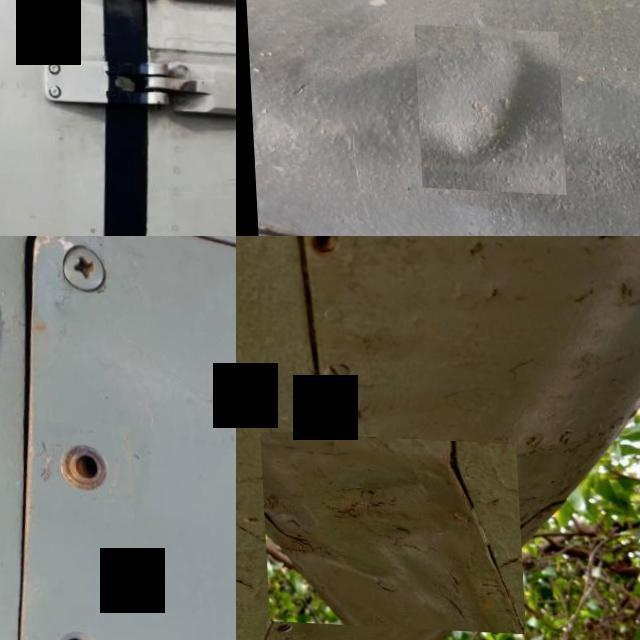Dent: (258, 428, 522, 629), (412, 22, 562, 192)
Missing_Fastener: (31, 418, 130, 520), (29, 609, 121, 640), (290, 236, 356, 271), (260, 608, 298, 640)
